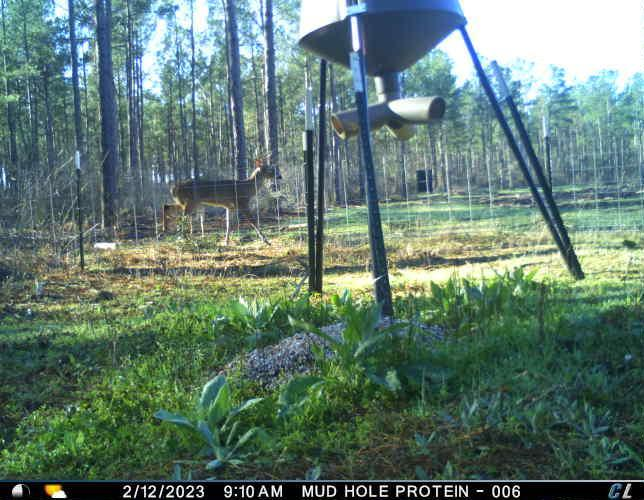Deer: (152, 161, 284, 251)
